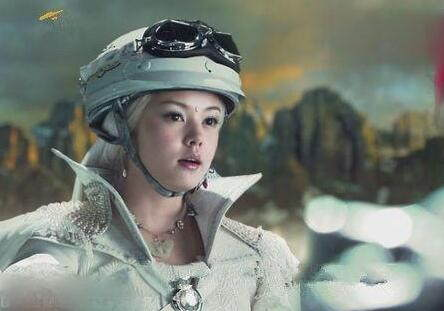helmet: (84, 23, 254, 111)
